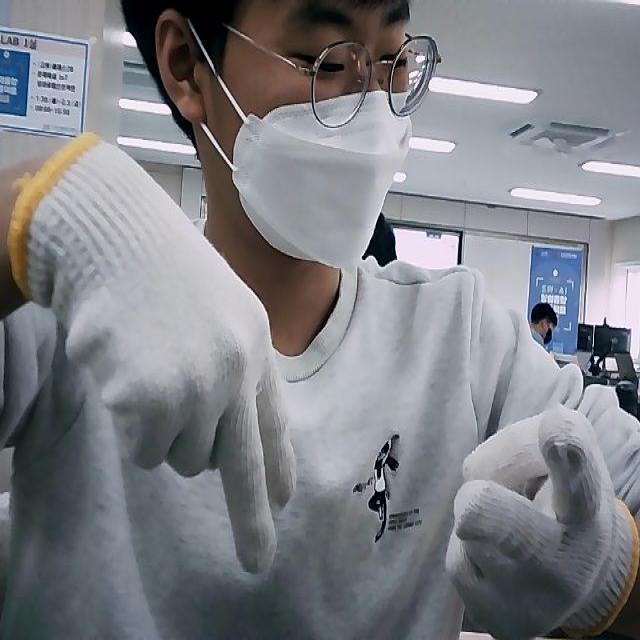gloves: (9, 130, 298, 576), (443, 403, 640, 639)
